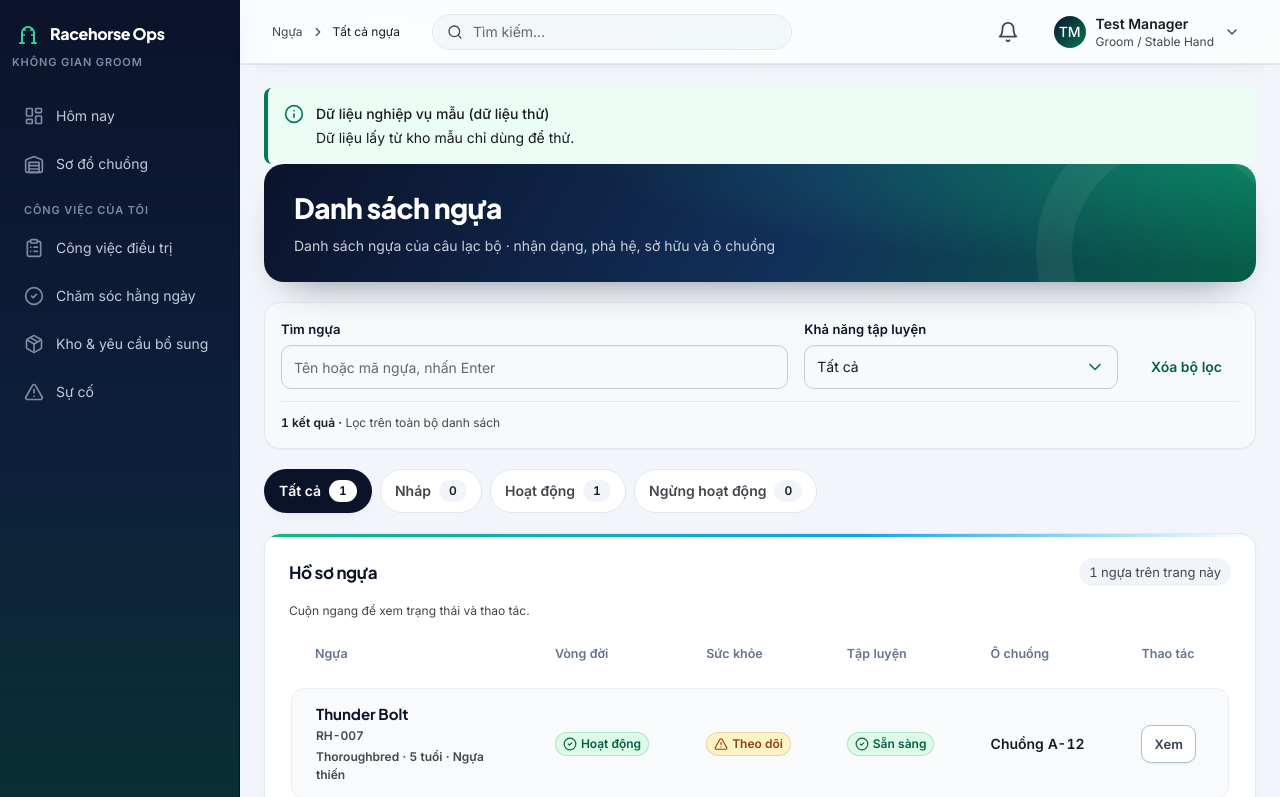
it: lists and opens the existing horse profile and keeps Vet clinical fields read-only
The image size is (1280, 797).
Click the link "Thunder Bolt RH-007 Thoroughbred · 5 tuổi · Ngựa thiến" at {"x": 362, "y": 714}, box left=316, top=704, right=484, bottom=782
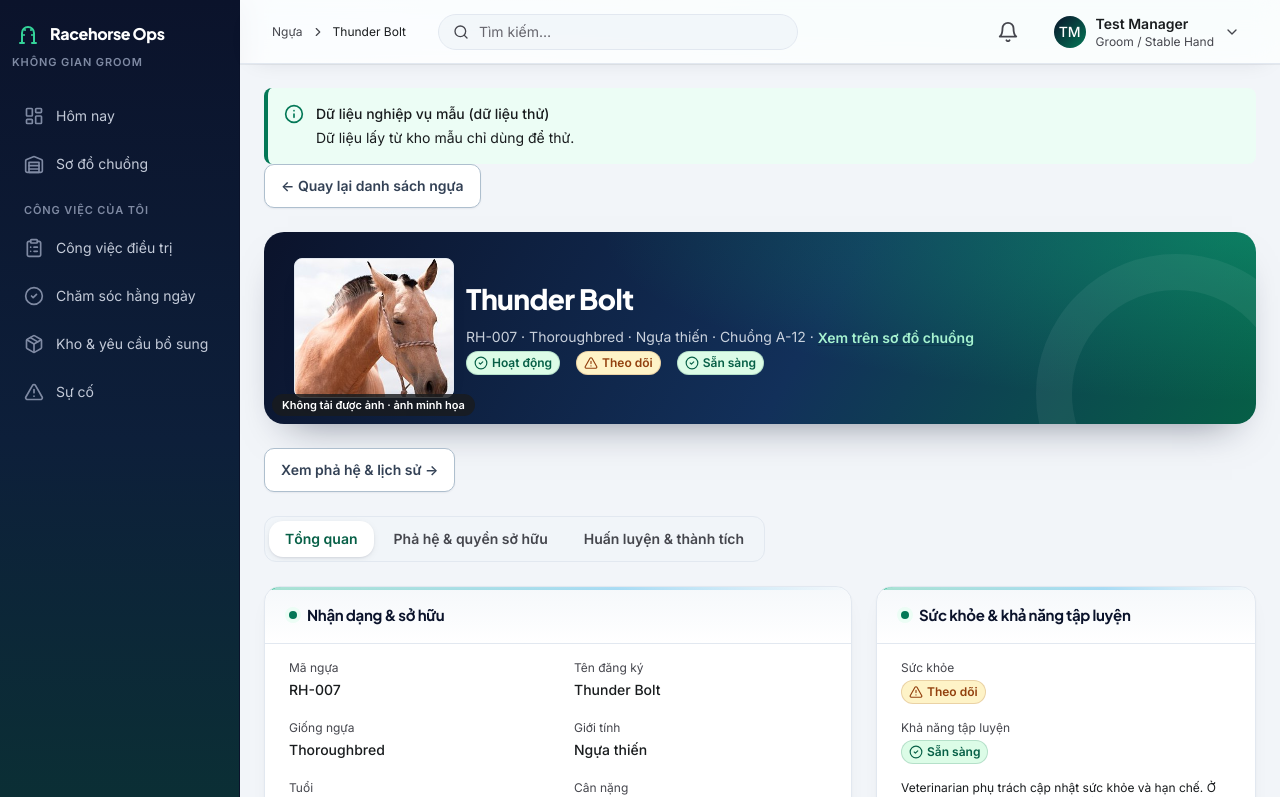
Check: the heading "Thunder Bolt" is shown, box left=466, top=281, right=634, bottom=316
